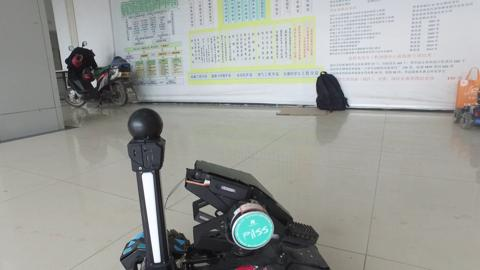bag: (313, 69, 351, 112), (454, 65, 480, 112)
chariot: (115, 105, 331, 270)
